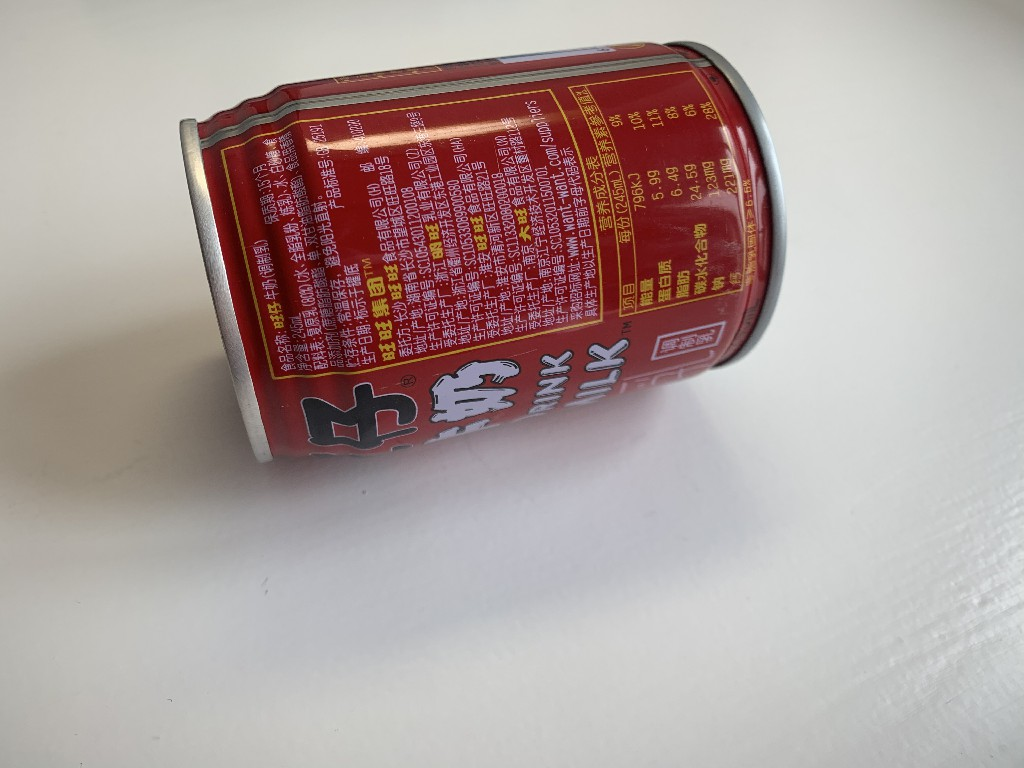can: (172, 37, 792, 468)
